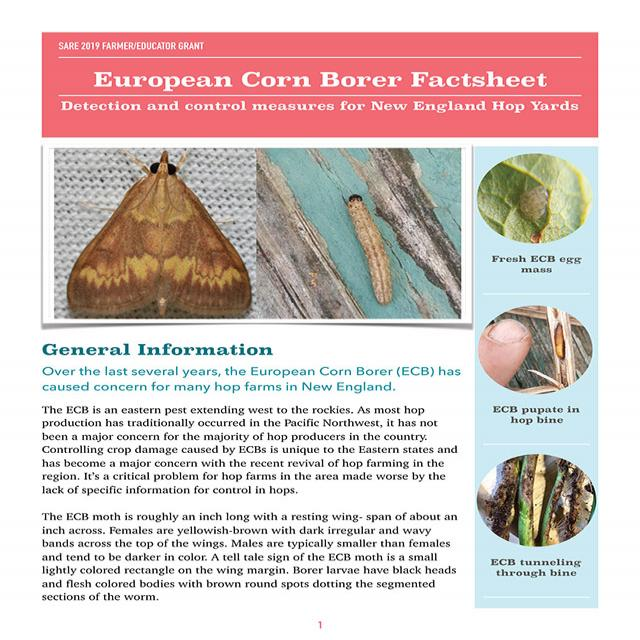cornborer-Adult-: (65, 151, 256, 319)
cornborer-Larva-: (333, 192, 412, 304)
